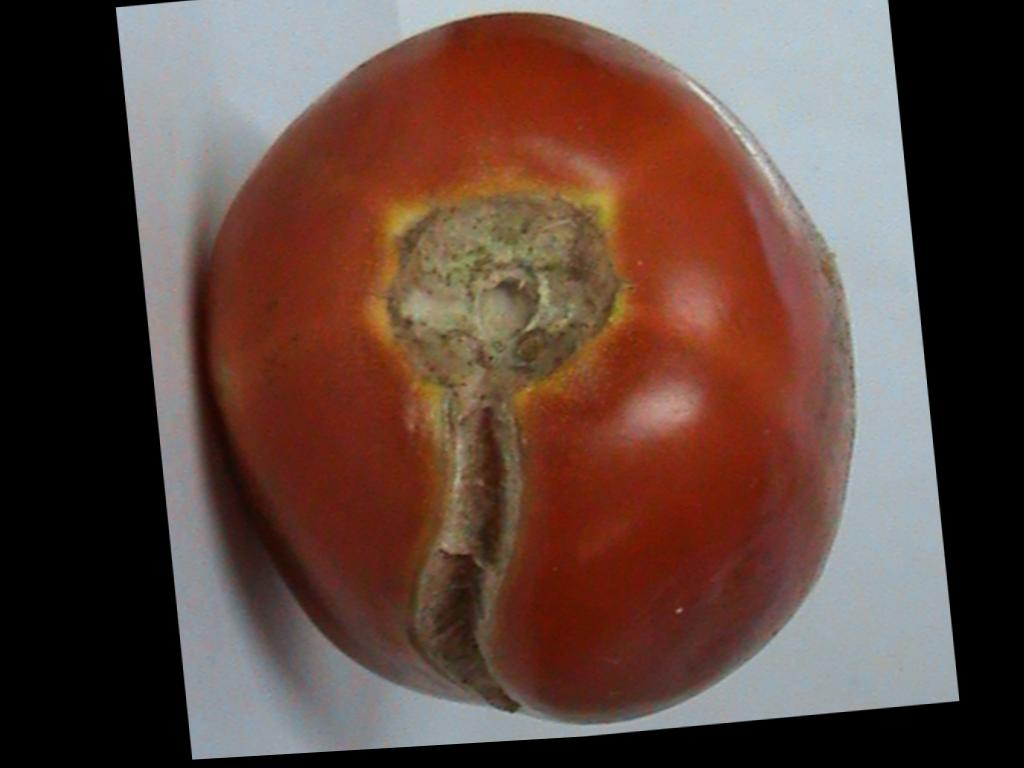surface_damage: (412, 374, 521, 709)
tomato: (207, 13, 853, 720)
